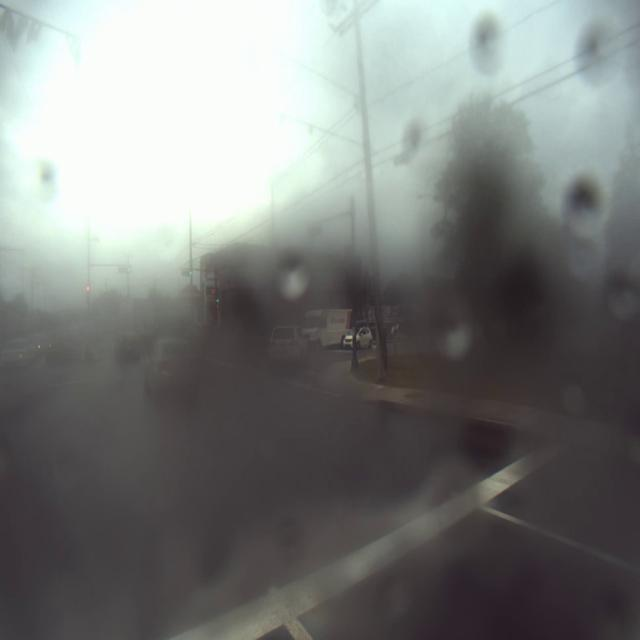car: (43, 331, 73, 364)
